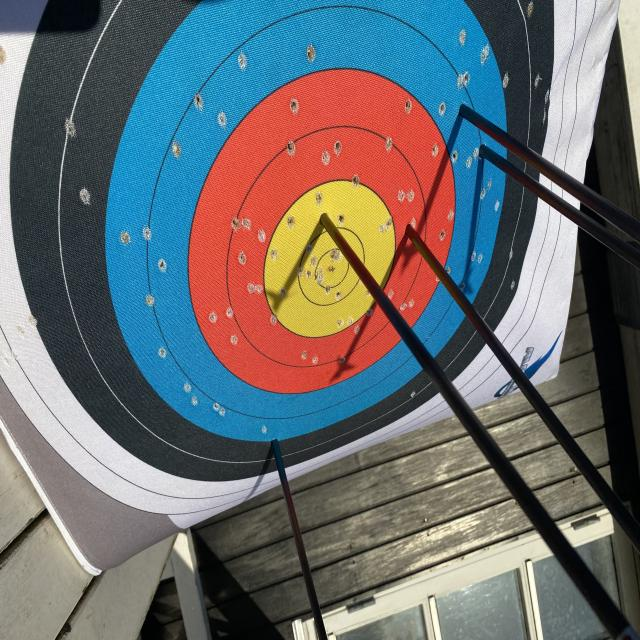Arrow_Black: (258, 428, 286, 463)
Arrow_Blue: (472, 136, 501, 170), (450, 94, 471, 128)
Arrow_Red: (394, 212, 426, 252)
Arrow_Yellow: (305, 200, 336, 237)
